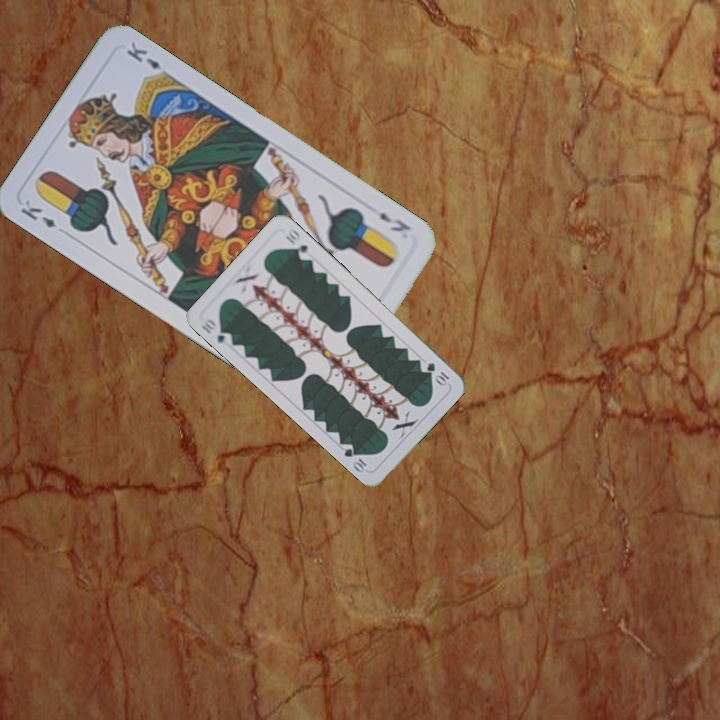EK: (16, 196, 59, 231), (375, 208, 414, 235)
G10: (197, 313, 235, 348), (422, 358, 452, 388)
